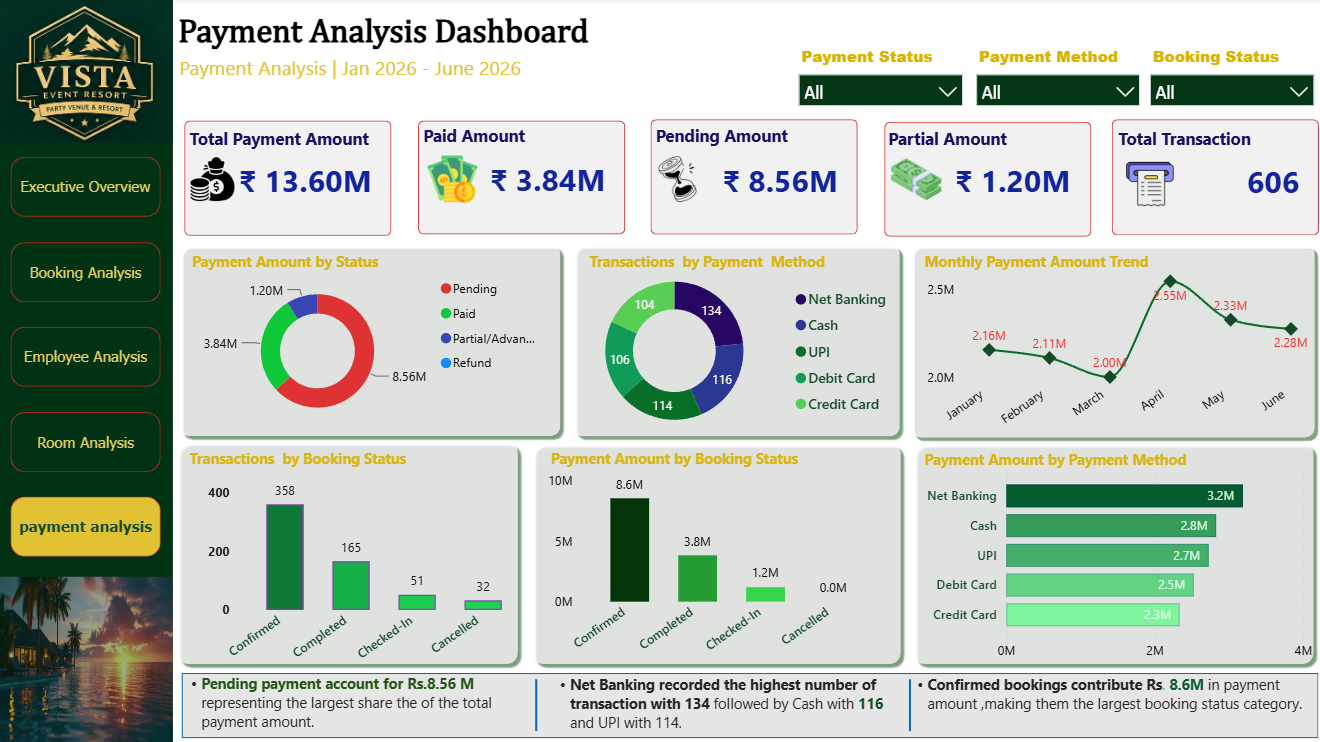

Layout of this report page (visuals, bound fields, positions):
{"tool":"powerbi","page":{"name":"payment analysis","canvas":[1280,720],"ordinal":4},"visuals":[{"type":"textbox","box":[168.8,11.2,563.8,60],"z":0},{"type":"shape","box":[0,0,169,720],"z":1000},{"type":"shape","box":[169.1,231.8,380,197.3],"z":2000},{"type":"shape","box":[177.1,651.4,1097.1,62.9],"z":3000},{"type":"shape","box":[180,118.6,200,111.4],"z":4000},{"type":"shape","box":[405.7,118.6,200,110],"z":5000},{"type":"shape","box":[854.9,119.5,200,111],"z":6000},{"type":"shape","box":[630,117.1,200,111.4],"z":7000},{"type":"shape","box":[1074.4,117.1,200,112.2],"z":8000},{"type":"image","box":[0,0,168.8,140],"z":9000},{"type":"image","box":[0,558.6,168.6,161.4],"z":10000},{"type":"textbox","box":[170,49.1,398.2,41.8],"z":11000},{"type":"shape","box":[548.8,231.2,327.5,197.5],"z":12000},{"type":"shape","box":[876.2,232.5,400,196.2],"z":13000},{"type":"shape","box":[167.1,422,341.5,226.8],"z":14000},{"type":"shape","box":[508.5,423.2,368.3,225.6],"z":15000},{"type":"shape","box":[876.8,423.2,398.8,225.6],"z":16000},{"type":"cardVisual","fields":{"Data":["Payment_Dataset.paid amount"]},"box":[405.5,120.9,200,105.5],"z":17000},{"type":"cardVisual","fields":{"Data":["Payment_Dataset.total"]},"box":[180,119.1,200,110],"z":18000},{"type":"cardVisual","fields":{"Data":["Payment_Dataset.pending amount"]},"box":[630,120,200,110],"z":19000},{"type":"cardVisual","fields":{"Data":["Payment_Dataset.partial_amount"]},"box":[854.5,120,200,109.1],"z":20000},{"type":"cardVisual","fields":{"Data":["Count(Payment_Dataset.Transaction_ID)"]},"box":[1076.4,120,198.2,110.9],"z":21000},{"type":"donutChart","fields":{"Category":["Payment_Dataset.Payment Status"],"Y":["Sum(Payment_Dataset.Total Amount)"]},"box":[185.8,263,347.5,155.6],"z":22000},{"type":"lineChart","fields":{"Category":["Payment_Dataset.Payment_Date.Variation.Date Hierarchy.Month"],"Y":["Sum(Payment_Dataset.Total Amount)"]},"box":[891.6,255.8,384.9,173.7],"z":23000},{"type":"barChart","fields":{"Category":["Payment_Dataset.Payment_Method"],"Y":["Sum(Payment_Dataset.Total Amount)"]},"box":[890.4,445.2,383.6,202.7],"z":24000},{"type":"donutChart","fields":{"Category":["Payment_Dataset.Payment_Method"],"Y":["Count(Payment_Dataset.Transaction_ID)"]},"box":[532.2,240,338.9,201.1],"z":25000},{"type":"clusteredColumnChart","fields":{"Category":["Payment_Dataset.Booking_Status"],"Y":["CountNonNull(Payment_Dataset.Booking_ID)"]},"box":[197.8,451.1,322.1,207.5],"z":26000},{"type":"columnChart","fields":{"Category":["Payment_Dataset.Booking_Status"],"Y":["Sum(Payment_Dataset.Total Amount)"]},"box":[526,445.2,333.6,203.6],"z":27000},{"type":"slicer","fields":{"Values":["Payment_Dataset.Payment Status"]},"box":[762.5,41.2,178.8,70],"z":28000},{"type":"slicer","fields":{"Values":["Payment_Dataset.Payment_Method"]},"box":[933.8,41.2,178.8,70],"z":29000},{"type":"slicer","fields":{"Values":["Payment_Dataset.Booking_Status"]},"box":[1101.2,41.2,178.8,70],"z":30000},{"type":"textbox","box":[180,120,200,40],"z":31000},{"type":"textbox","box":[405.5,117.3,119.1,40],"z":32000},{"type":"textbox","box":[630,117.3,148.2,40],"z":33000},{"type":"textbox","box":[854.5,120,148.2,40],"z":34000},{"type":"textbox","box":[1076.4,119.1,180,40],"z":35000},{"type":"textbox","box":[182.2,240.1,223.2,39.8],"z":36000},{"type":"textbox","box":[565.8,240.1,301.6,30.2],"z":37000},{"type":"textbox","box":[889.1,240.1,301.6,30.2],"z":38000},{"type":"textbox","box":[179.8,429.5,301.6,30.2],"z":39000},{"type":"textbox","box":[528.4,429.5,277.5,39.8],"z":40000},{"type":"textbox","box":[889.1,430.7,277.5,39.8],"z":41000},{"type":"image","box":[185.8,149.6,42.2,50.7],"z":42000},{"type":"image","box":[1085.8,154.4,51.9,50.7],"z":43000},{"type":"image","box":[629.8,149.6,51.9,50.7],"z":44000},{"type":"image","box":[860.2,149.6,51.9,50.7],"z":45000},{"type":"image","box":[412.6,149.6,51.9,50.7],"z":46000},{"type":"pageNavigator","box":[12.1,153.2,145.7,387.1],"z":47000},{"type":"shape","box":[500,657.8,40,50],"z":49000},{"type":"shape","box":[860,657.8,40,50],"z":50000},{"type":"textbox","box":[871.1,647.8,395.6,60],"z":52000},{"type":"textbox","box":[525.6,647.8,343.3,68.9],"z":52500},{"type":"textbox","box":[170,646.7,354.4,71.1],"z":54500}]}

Visuals, with their boxes in screenshot pixels (x1, y1, x2, y2), scaled from the page's 1280x720 canvas onto the 1320x742 screenshot:
textbox: {"x1": 174, "y1": 12, "x2": 755, "y2": 73}
shape: {"x1": 0, "y1": 0, "x2": 174, "y2": 741}
shape: {"x1": 174, "y1": 239, "x2": 566, "y2": 442}
shape: {"x1": 183, "y1": 671, "x2": 1314, "y2": 736}
shape: {"x1": 186, "y1": 122, "x2": 392, "y2": 237}
shape: {"x1": 418, "y1": 122, "x2": 625, "y2": 236}
shape: {"x1": 882, "y1": 123, "x2": 1088, "y2": 238}
shape: {"x1": 650, "y1": 121, "x2": 856, "y2": 235}
shape: {"x1": 1108, "y1": 121, "x2": 1314, "y2": 236}
image: {"x1": 0, "y1": 0, "x2": 174, "y2": 144}
image: {"x1": 0, "y1": 576, "x2": 174, "y2": 741}
textbox: {"x1": 175, "y1": 51, "x2": 586, "y2": 94}
shape: {"x1": 566, "y1": 238, "x2": 904, "y2": 442}
shape: {"x1": 904, "y1": 240, "x2": 1316, "y2": 442}
shape: {"x1": 172, "y1": 435, "x2": 524, "y2": 669}
shape: {"x1": 524, "y1": 436, "x2": 904, "y2": 669}
shape: {"x1": 904, "y1": 436, "x2": 1315, "y2": 669}
cardVisual - Payment_Dataset.paid amount: {"x1": 418, "y1": 125, "x2": 624, "y2": 233}
cardVisual - Payment_Dataset.total: {"x1": 186, "y1": 123, "x2": 392, "y2": 236}
cardVisual - Payment_Dataset.pending amount: {"x1": 650, "y1": 124, "x2": 856, "y2": 237}
cardVisual - Payment_Dataset.partial_amount: {"x1": 881, "y1": 124, "x2": 1087, "y2": 236}
cardVisual - Count(Payment_Dataset.Transaction_ID): {"x1": 1110, "y1": 124, "x2": 1314, "y2": 238}
donutChart - Payment_Dataset.Payment Status x Sum(Payment_Dataset.Total Amount): {"x1": 192, "y1": 271, "x2": 550, "y2": 431}
lineChart - Payment_Dataset.Payment_Date.Variation.Date Hierarchy.Month x Sum(Payment_Dataset.Total Amount): {"x1": 919, "y1": 264, "x2": 1316, "y2": 443}
barChart - Payment_Dataset.Payment_Method x Sum(Payment_Dataset.Total Amount): {"x1": 918, "y1": 459, "x2": 1314, "y2": 668}
donutChart - Payment_Dataset.Payment_Method x Count(Payment_Dataset.Transaction_ID): {"x1": 549, "y1": 247, "x2": 898, "y2": 455}
clusteredColumnChart - Payment_Dataset.Booking_Status x CountNonNull(Payment_Dataset.Booking_ID): {"x1": 204, "y1": 465, "x2": 536, "y2": 679}
columnChart - Payment_Dataset.Booking_Status x Sum(Payment_Dataset.Total Amount): {"x1": 542, "y1": 459, "x2": 886, "y2": 669}
slicer - Payment_Dataset.Payment Status: {"x1": 786, "y1": 42, "x2": 971, "y2": 115}
slicer - Payment_Dataset.Payment_Method: {"x1": 963, "y1": 42, "x2": 1147, "y2": 115}
slicer - Payment_Dataset.Booking_Status: {"x1": 1136, "y1": 42, "x2": 1319, "y2": 115}
textbox: {"x1": 186, "y1": 124, "x2": 392, "y2": 165}
textbox: {"x1": 418, "y1": 121, "x2": 541, "y2": 162}
textbox: {"x1": 650, "y1": 121, "x2": 803, "y2": 162}
textbox: {"x1": 881, "y1": 124, "x2": 1034, "y2": 165}
textbox: {"x1": 1110, "y1": 123, "x2": 1296, "y2": 164}
textbox: {"x1": 188, "y1": 247, "x2": 418, "y2": 288}
textbox: {"x1": 583, "y1": 247, "x2": 895, "y2": 279}
textbox: {"x1": 917, "y1": 247, "x2": 1228, "y2": 279}
textbox: {"x1": 185, "y1": 443, "x2": 496, "y2": 474}
textbox: {"x1": 545, "y1": 443, "x2": 831, "y2": 484}
textbox: {"x1": 917, "y1": 444, "x2": 1203, "y2": 485}
image: {"x1": 192, "y1": 154, "x2": 235, "y2": 206}
image: {"x1": 1120, "y1": 159, "x2": 1173, "y2": 211}
image: {"x1": 649, "y1": 154, "x2": 703, "y2": 206}
image: {"x1": 887, "y1": 154, "x2": 941, "y2": 206}
image: {"x1": 425, "y1": 154, "x2": 479, "y2": 206}
pageNavigator: {"x1": 12, "y1": 158, "x2": 163, "y2": 557}
shape: {"x1": 516, "y1": 678, "x2": 557, "y2": 729}
shape: {"x1": 887, "y1": 678, "x2": 928, "y2": 729}
textbox: {"x1": 898, "y1": 668, "x2": 1306, "y2": 729}
textbox: {"x1": 542, "y1": 668, "x2": 896, "y2": 739}
textbox: {"x1": 175, "y1": 666, "x2": 541, "y2": 740}
